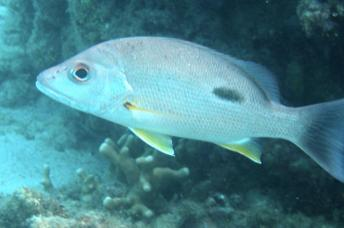Lutjanidae -Snappers-: (33, 32, 344, 186)
